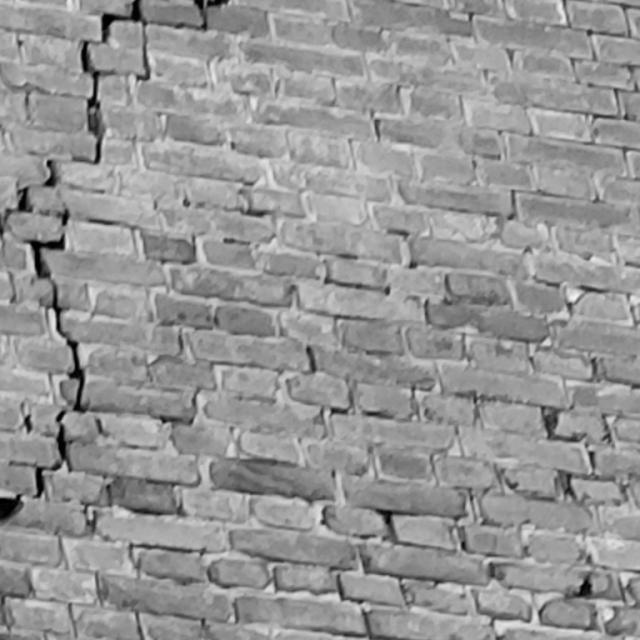crack: (1, 1, 227, 522)
